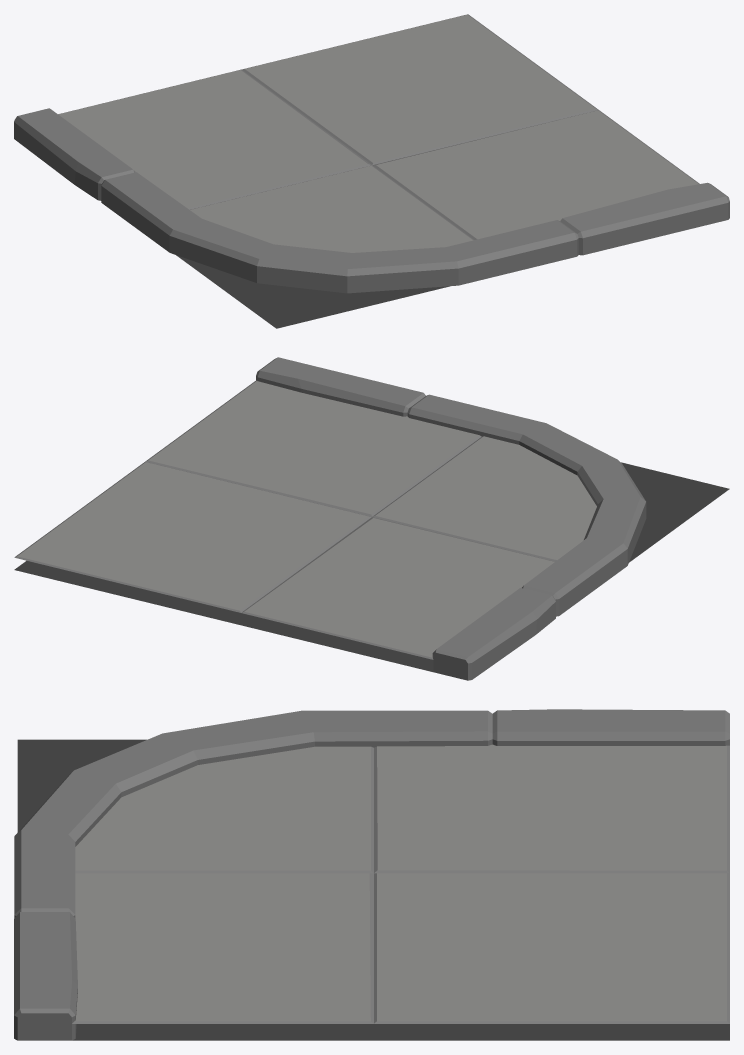
File: SM_Envr_Road_Sidewalk_Corner_In.fbx
3 views of the same model, one above another, from view 1: azimuth 30°, elevation 25°; view 2: azimuth 150°, elevation 25°; view 3: azimuth 270°, elevation 25° (orthographic). The views are drawn at different scales.
Visible parts, largest first — view 1: SM_Envr_Road_Sidewalk_Corner_In; view 2: SM_Envr_Road_Sidewalk_Corner_In; view 3: SM_Envr_Road_Sidewalk_Corner_In.
Boxes of the visible parts, x1=… form: SM_Envr_Road_Sidewalk_Corner_In: x1=14, y1=14, x2=729, y2=328; SM_Envr_Road_Sidewalk_Corner_In: x1=14, y1=357, x2=729, y2=680; SM_Envr_Road_Sidewalk_Corner_In: x1=14, y1=709, x2=729, y2=1040.
Bounding box in the file's own units: 505 × 25.53 × 503.
